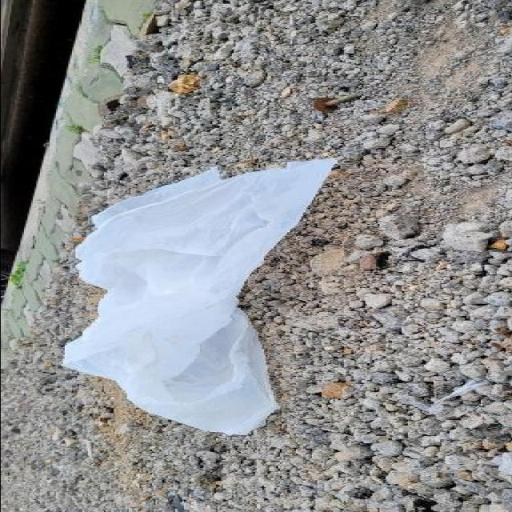plastic-bag: (56, 156, 342, 437)
